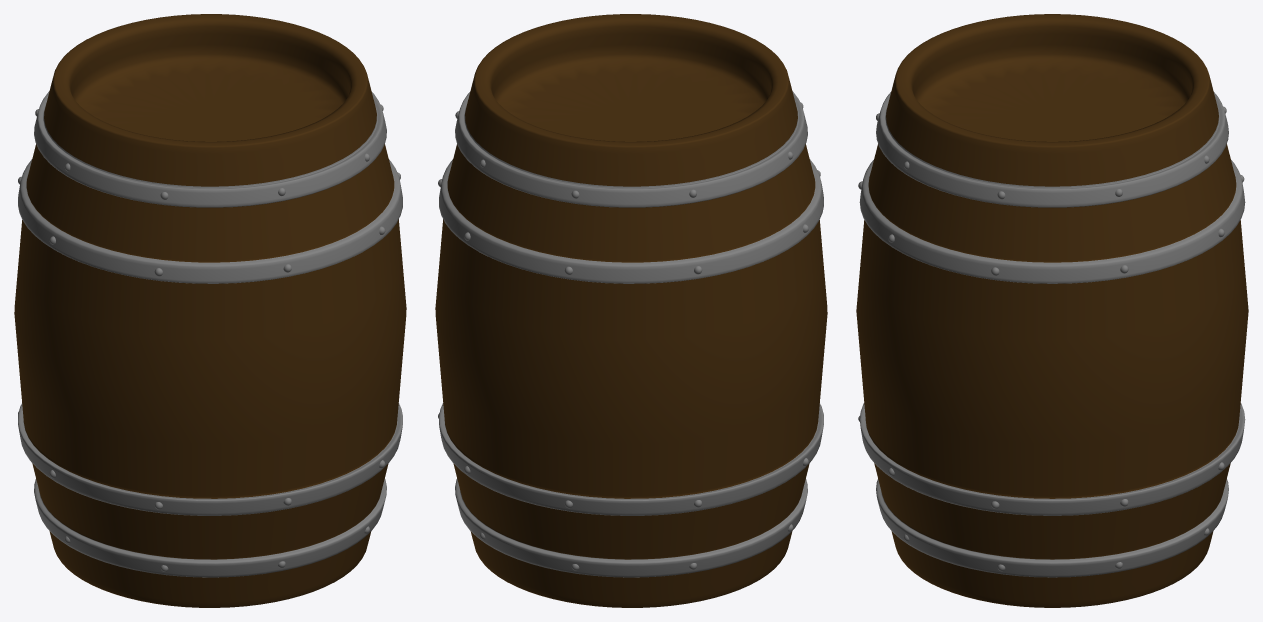
Rendered from Barrel.fbx.
3 renders of one model, left to right at view 1: azimuth 30°, elevation 25°; view 2: azimuth 150°, elevation 25°; view 3: azimuth 270°, elevation 25°, orthographic.
Parts seen in each view (by area): view 1: Cylinder; view 2: Cylinder; view 3: Cylinder.
Part boxes in pixels (x1=…): Cylinder: x1=14, y1=14, x2=406, y2=607; Cylinder: x1=435, y1=14, x2=827, y2=607; Cylinder: x1=856, y1=14, x2=1248, y2=607.
Size of the model in its own units: 248 by 322 by 248.
